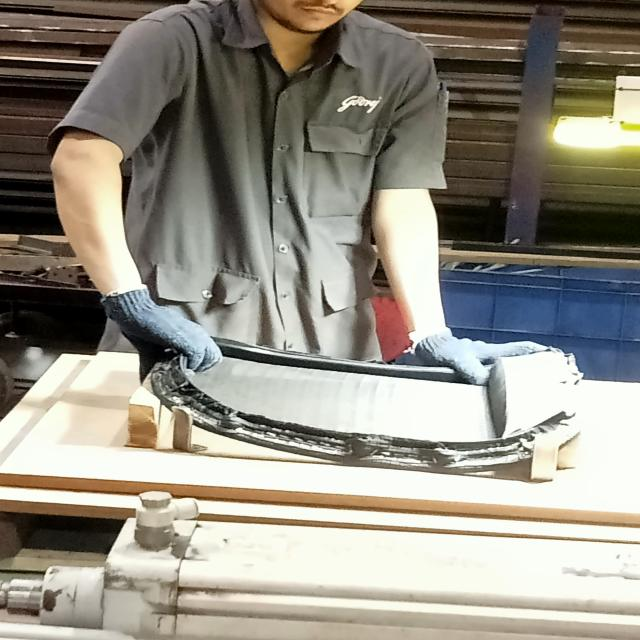Gloves-Detection: (85, 290, 213, 370), (402, 327, 547, 378)
